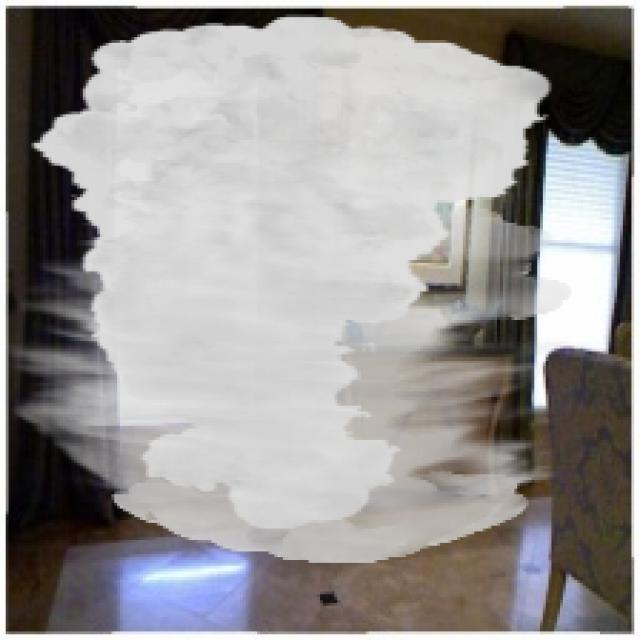smoke: (9, 14, 572, 563)
